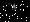person: (12, 3, 18, 15), (7, 5, 13, 17)
